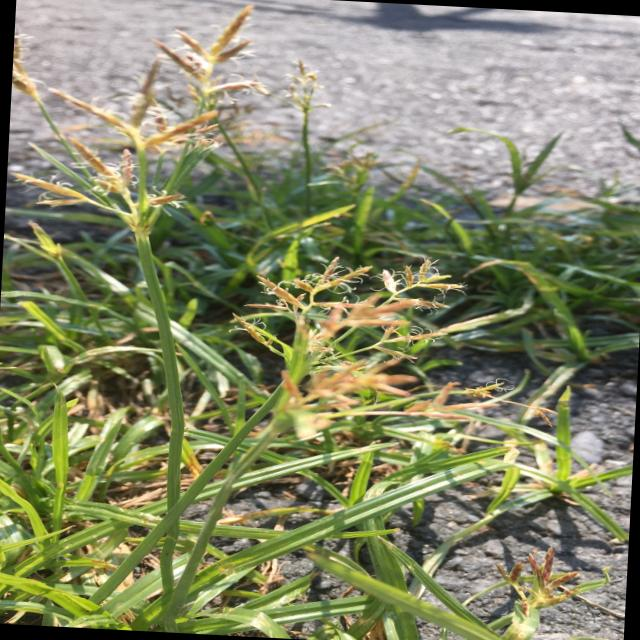cyperus: (4, 0, 277, 236), (230, 242, 515, 466), (481, 539, 583, 624), (256, 57, 334, 116), (311, 146, 389, 193)
